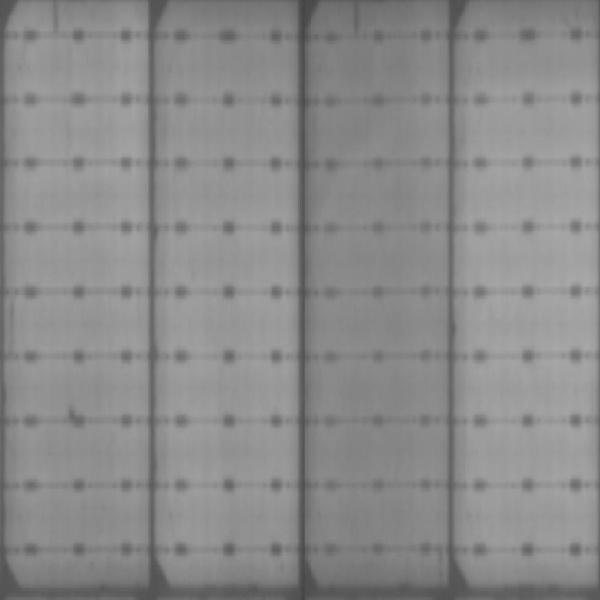scratch: (45, 1, 64, 39), (351, 1, 362, 36)
